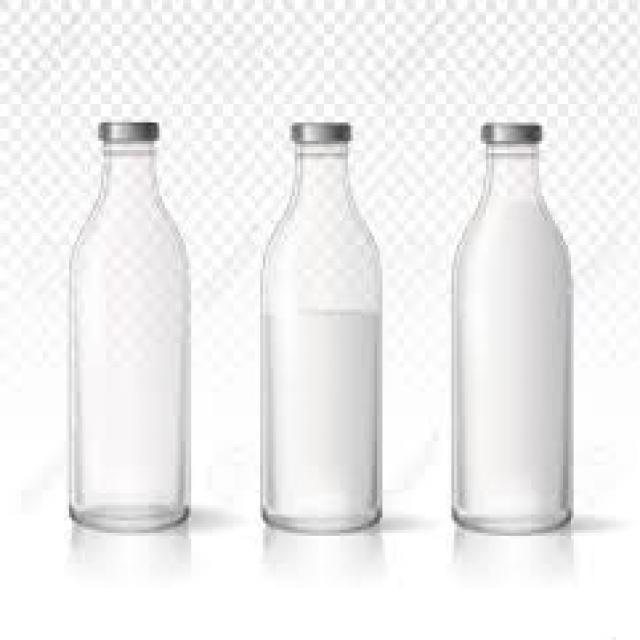Glass-Non-Biodegradable but Recyclable-: (68, 123, 194, 539), (449, 124, 574, 537), (259, 124, 382, 534)
